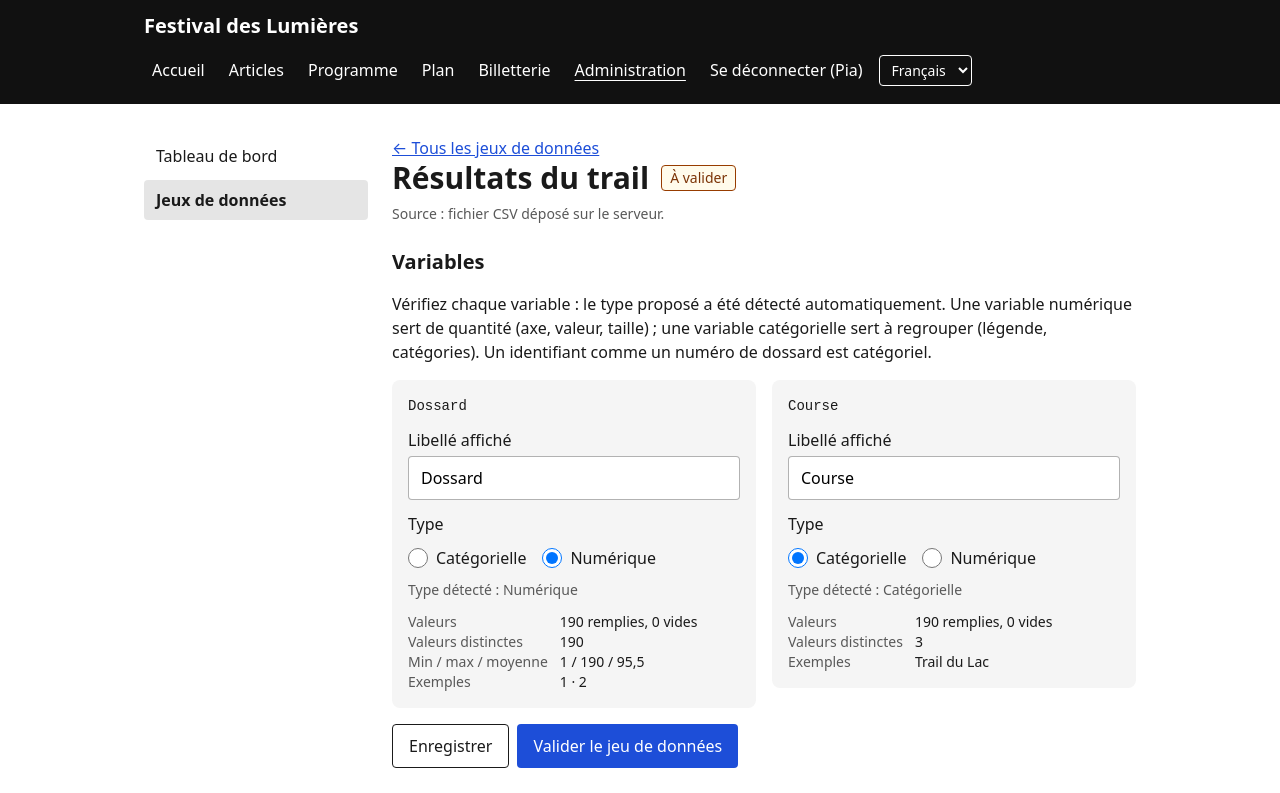
Test case: datasets › shows validation errors on the variable concerned
The width and height of the screenshot is (1280, 793).
Click the button "Valider le jeu de données": {"x": 628, "y": 746} [517,724,738,768]
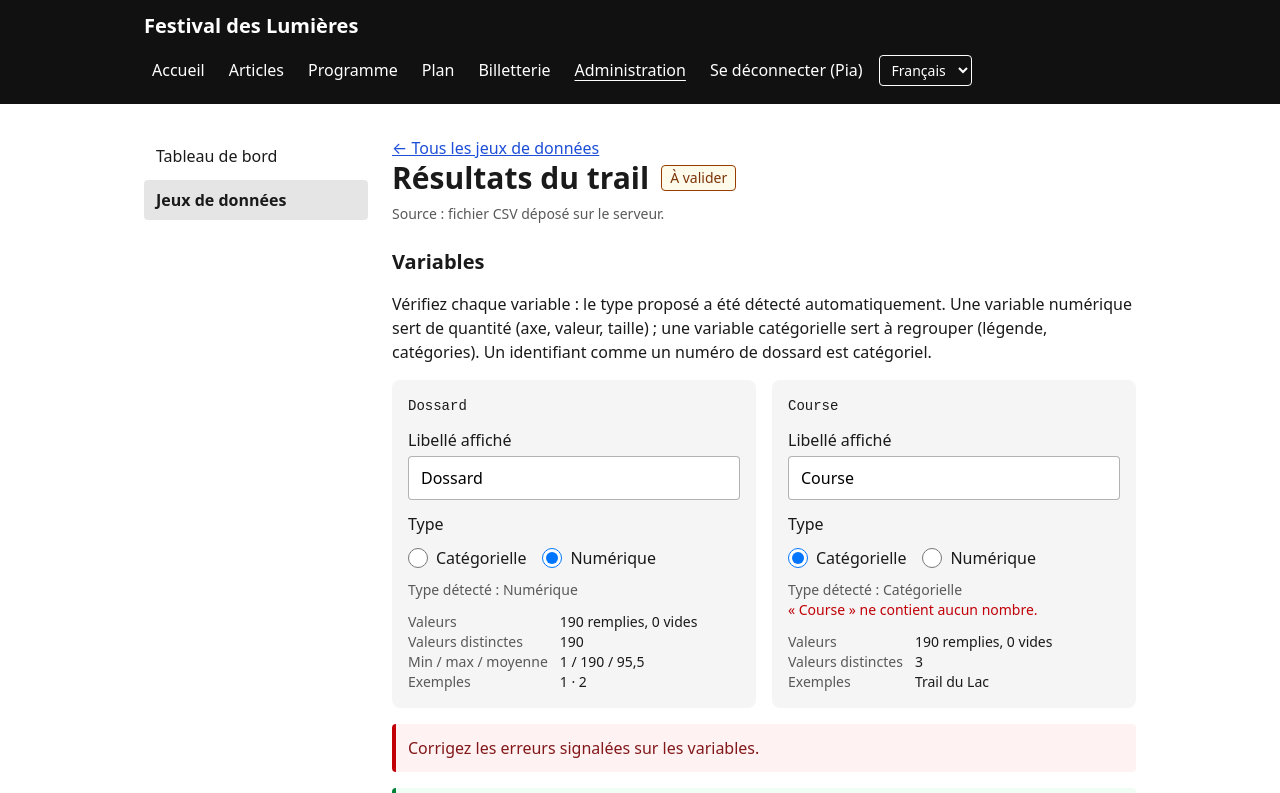
Check: the 2nd radio button labelled "Numérique" is shown, box [922,548,942,568]
Check: the text "Corrigez les erreurs signalées sur les variables." is shown, box [392,724,1136,772]
